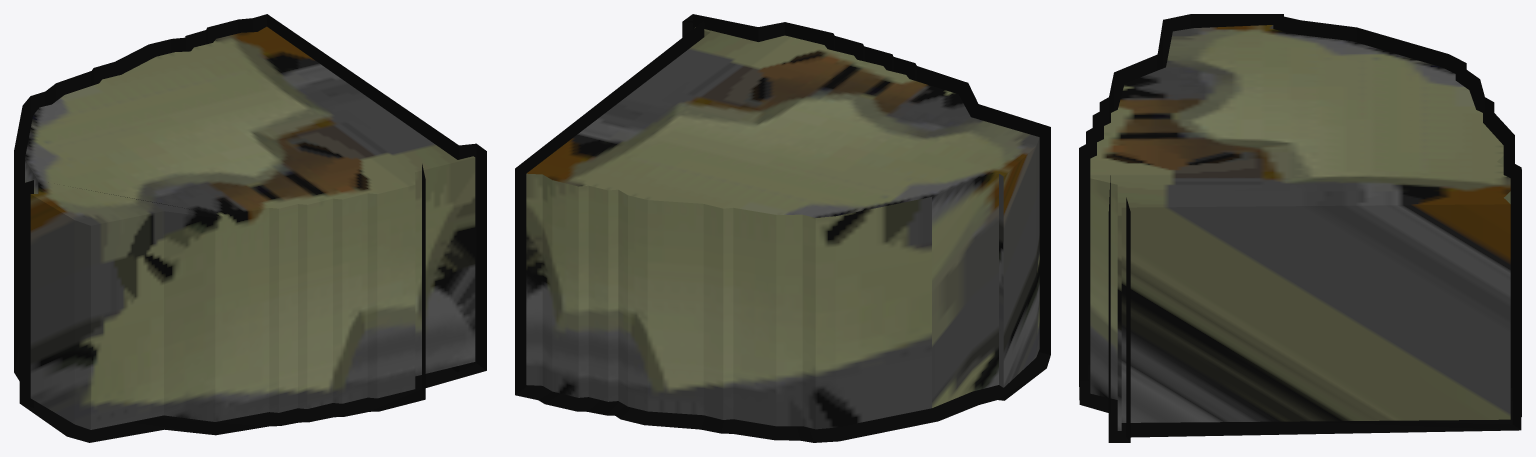
File: Building_ShipChunk_Things_Building_Exotic_ShipChunk_ShipChunkB.glb
3 renders of one model, left to right at view 1: azimuth 30°, elevation 25°; view 2: azimuth 150°, elevation 25°; view 3: azimuth 270°, elevation 25°, orthographic. The views are drawn at different scales.
Parts seen in each view (by area): view 1: Body, Outline; view 2: Body, Outline; view 3: Body, Outline.
Part boxes in pixels (x1,y1,x2,y2): Body: (25,26,475,429); Outline: (14,14,486,442); Body: (526,27,1039,429); Outline: (515,14,1050,442); Body: (1090,25,1510,430); Outline: (1079,14,1521,442).
Bounding box in the file's own units: 0.9468 × 0.5373 × 0.8964.
2 materials, 1 textured.
